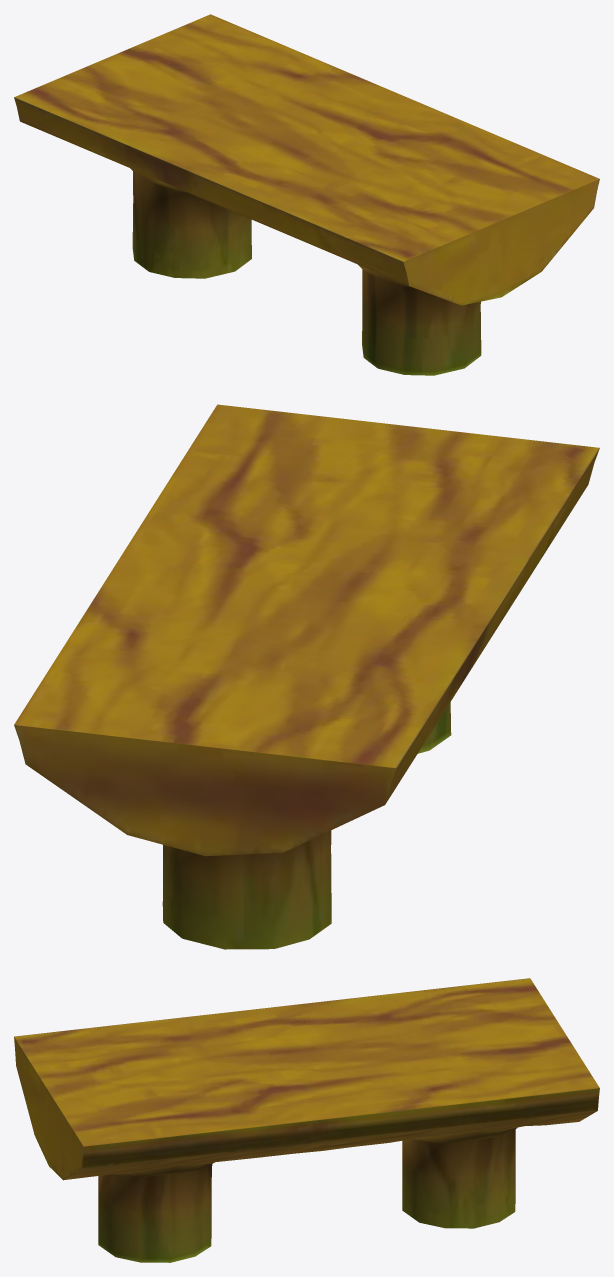
The model's file is kitchen_table-optimized.glb.
3 renders of one model, top to bottom at view 1: azimuth 30°, elevation 25°; view 2: azimuth 150°, elevation 25°; view 3: azimuth 270°, elevation 25°, orthographic. The views are drawn at different scales.
Visible parts, largest first — view 1: Retopo_Cylinder; view 2: Retopo_Cylinder; view 3: Retopo_Cylinder.
Part boxes in pixels (left/top/right/bottom): Retopo_Cylinder: left=14, top=14, right=599, bottom=375; Retopo_Cylinder: left=14, top=404, right=599, bottom=949; Retopo_Cylinder: left=14, top=978, right=599, bottom=1262.
Bounding box in the file's own units: 11.63 × 5.12 × 17.1.
1 material, 1 textured.
